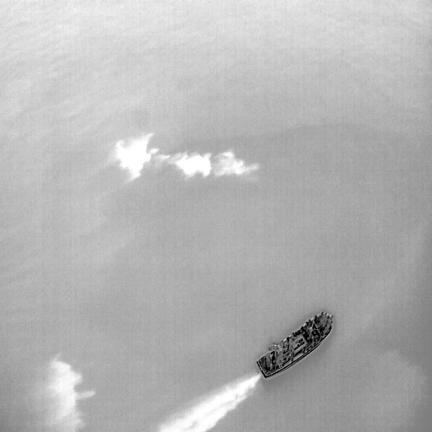flukeprints: (115, 133, 158, 179), (212, 151, 258, 175), (169, 154, 211, 176)
